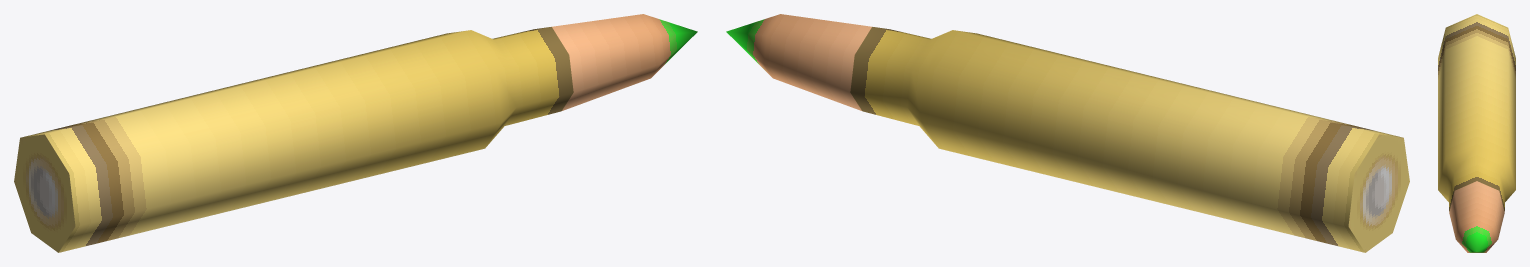
File: 308Round.fbx
3 renders of one model, left to right at view 1: azimuth 30°, elevation 25°; view 2: azimuth 150°, elevation 25°; view 3: azimuth 270°, elevation 25°, orthographic. The views are drawn at different scales.
Parts seen in each view (by area): view 1: 223556ammo; view 2: 223556ammo; view 3: 223556ammo.
Part boxes in pixels (x1=…): 223556ammo: x1=14, y1=14, x2=697, y2=252; 223556ammo: x1=726, y1=14, x2=1409, y2=252; 223556ammo: x1=1438, y1=14, x2=1515, y2=252.
Size of the model in its own units: 0.1341 by 0.0213 by 0.0219.
